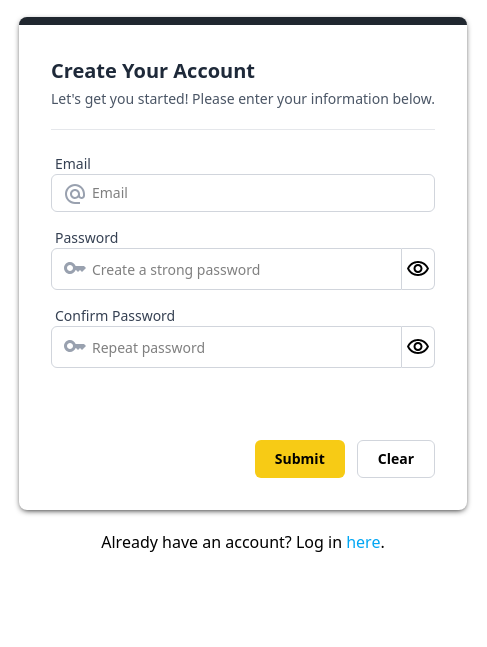
it: APP - Auth - SignUp › should show cnfPassword mismatch error (covers issue.code === "custom" branch)
Step 1. Type "ValidP@ss1!" into the password field with test id "password-field" → (226, 269), box [51,248,402,290]
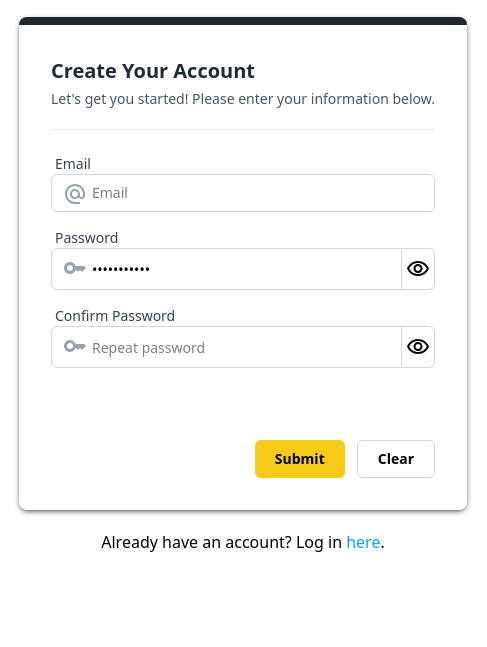
Step 2. Type "DifferentP@ss2!" into the password field with test id "cnfPassword-field" → (226, 347), box [51,326,402,368]
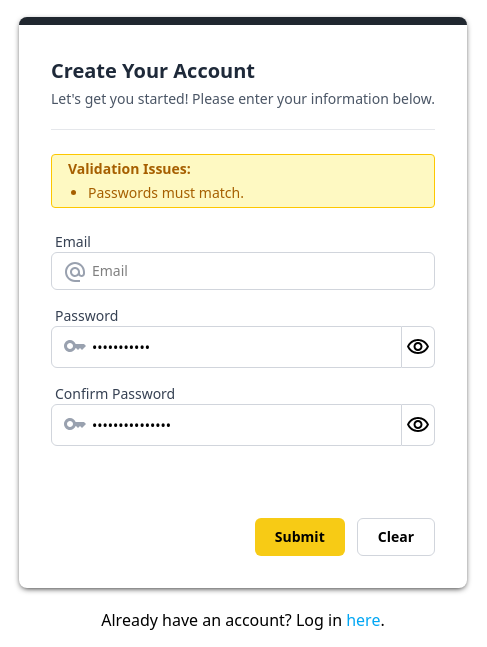
Result: the text "Validation Issues:" is shown at [68,159,191,178]
Result: the list item "Passwords must match." is shown at [88,183,244,202]
